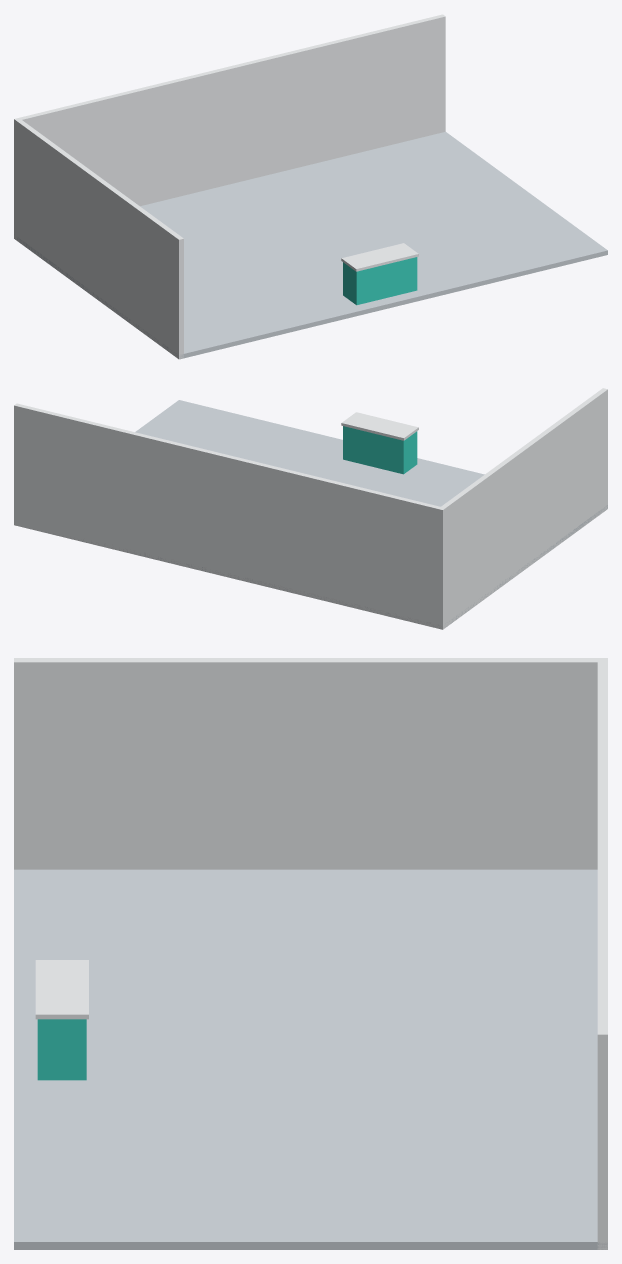
3 views of the same model, one above another, from view 1: azimuth 30°, elevation 25°; view 2: azimuth 150°, elevation 25°; view 3: azimuth 270°, elevation 25° (orthographic). The views are drawn at different scales.
Parts seen in each view (by area): view 1: Exhibition Booth Concept; view 2: Exhibition Booth Concept; view 3: Exhibition Booth Concept.
Boxes of the visible parts, <box> form: Exhibition Booth Concept: <box>14,14,607,359</box>; Exhibition Booth Concept: <box>14,388,607,629</box>; Exhibition Booth Concept: <box>14,658,607,1249</box>.
Size of the model in its own units: 12 by 3.2 by 8.
